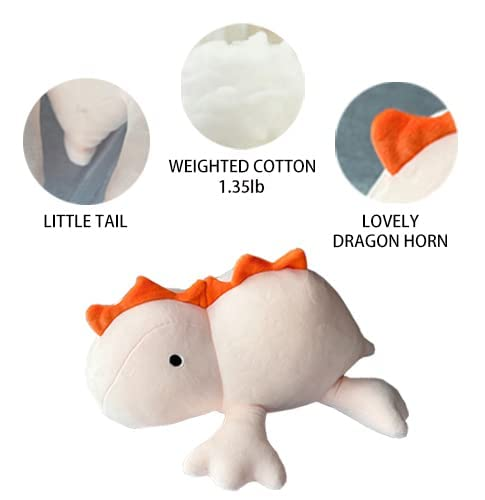COTTON: (254, 159, 315, 173)
DRAGON: (334, 234, 399, 248)
HORN: (404, 234, 447, 247)
LITTLE: (44, 214, 91, 228)
LOVELY: (363, 214, 419, 228)
TAIL: (95, 214, 128, 228)
WEIGHTED: (169, 159, 249, 173)
